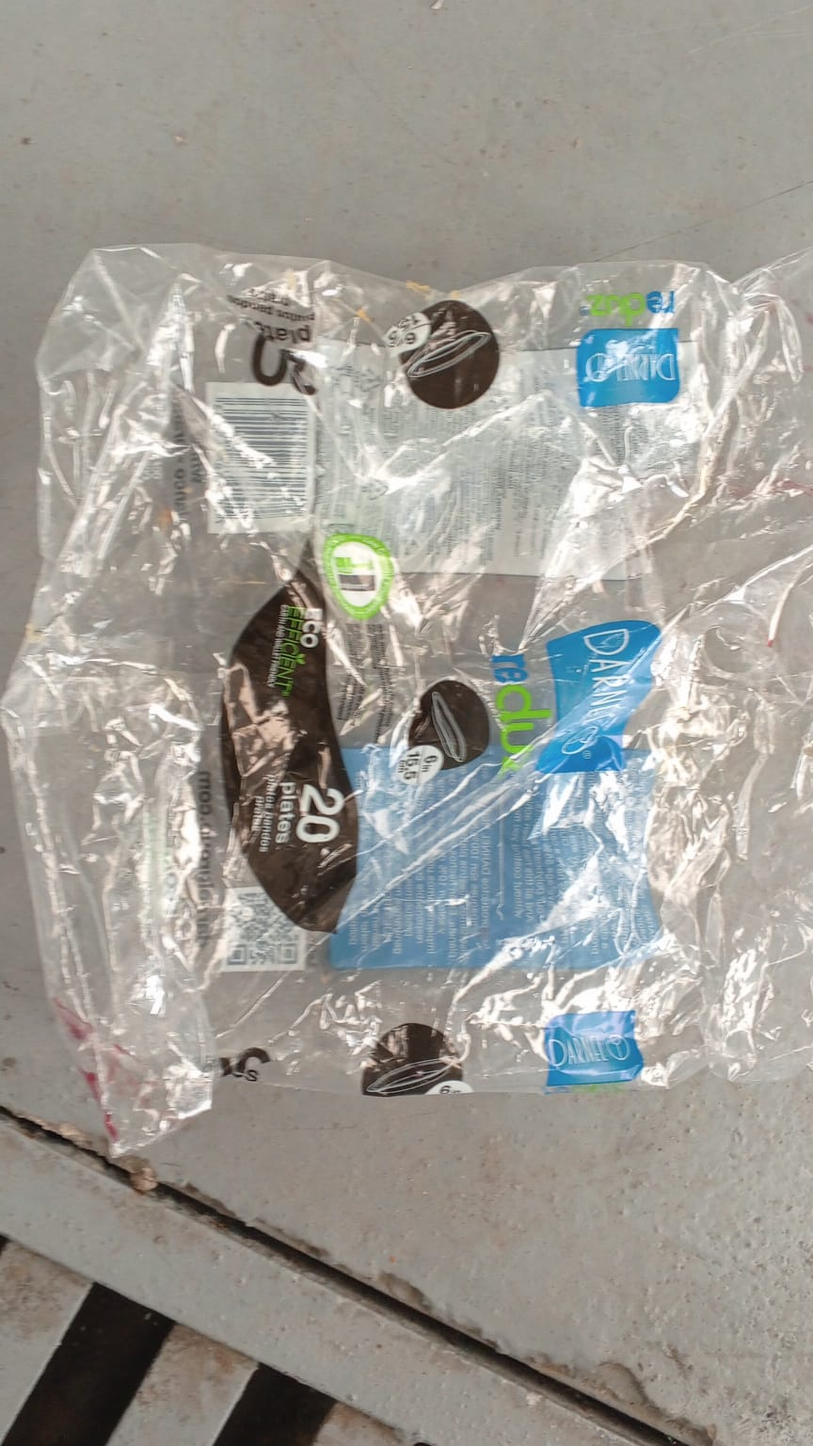Plastico: (0, 240, 813, 1158)
